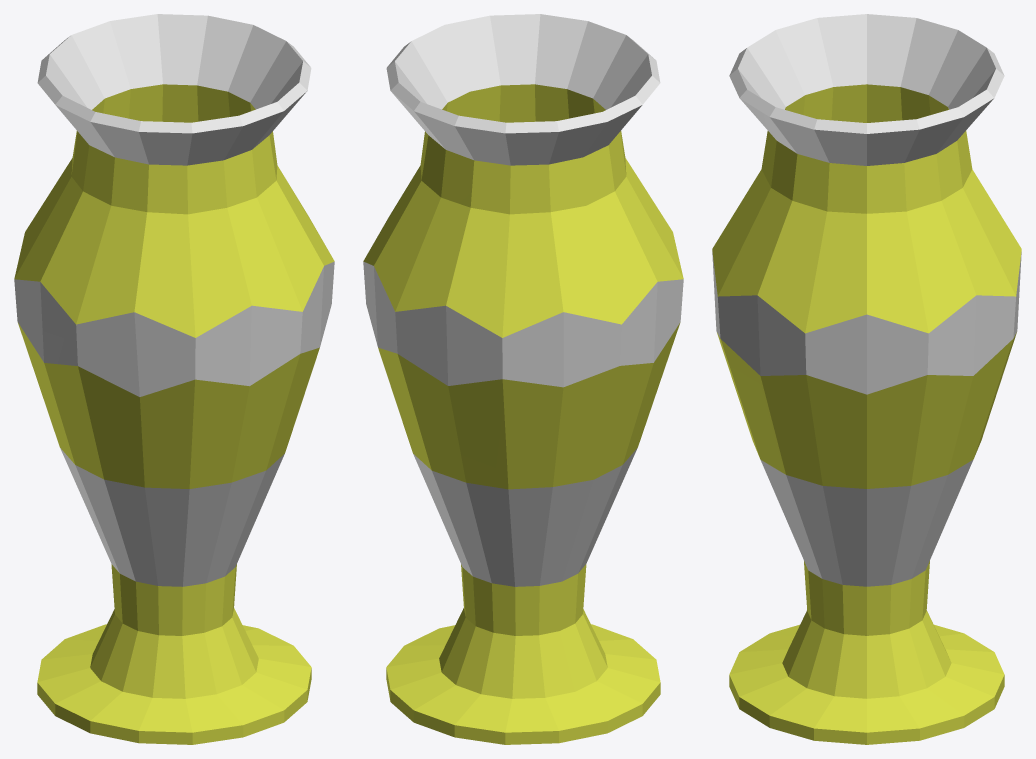
The model's file is Vase_M_1.fbx.
3 renders of one model, left to right at view 1: azimuth 30°, elevation 25°; view 2: azimuth 150°, elevation 25°; view 3: azimuth 270°, elevation 25°, orthographic.
Parts seen in each view (by area): view 1: Vase_M_1; view 2: Vase_M_1; view 3: Vase_M_1.
Boxes of the visible parts, <box> form: Vase_M_1: <box>14,14,334,744</box>; Vase_M_1: <box>363,14,683,744</box>; Vase_M_1: <box>712,14,1021,744</box>.
Size of the model in its own units: 0.1634 by 0.3599 by 0.1634.
